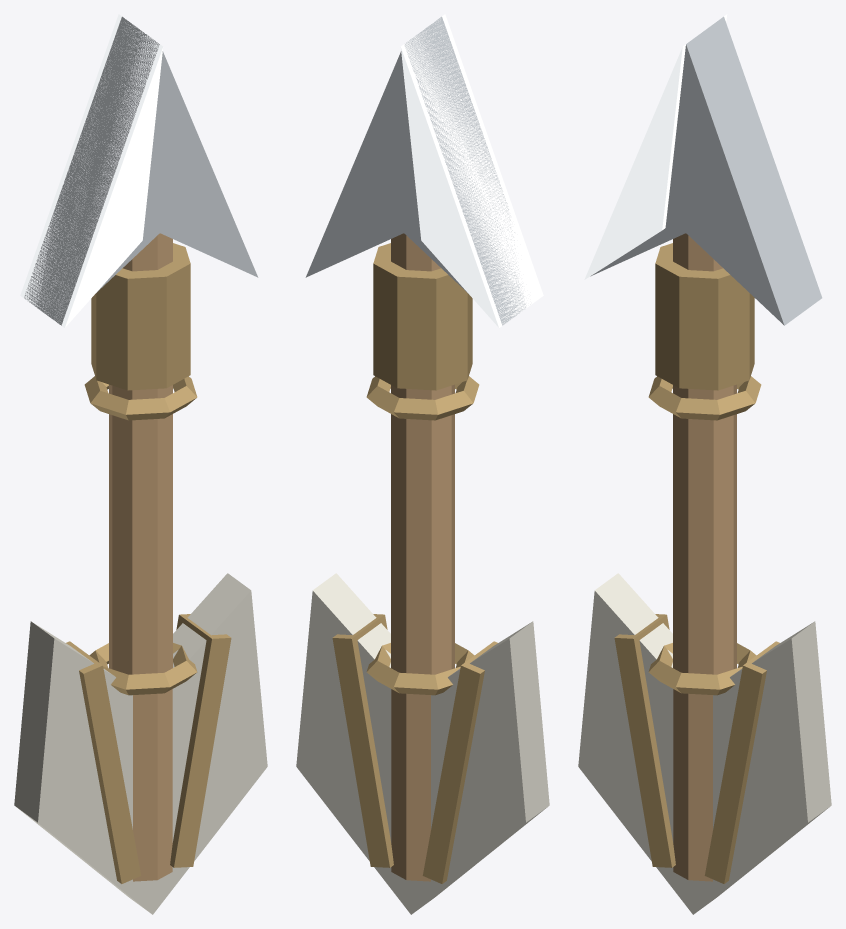
The model's file is hunter_bow_shot.glb.
The picture shows the model from 3 angles, left to right: view 1: azimuth 30°, elevation 25°; view 2: azimuth 150°, elevation 25°; view 3: azimuth 330°, elevation 25°; orthographic projection.
Parts seen in each view (by area): view 1: Shaft, ForgedArrowhead, Fletching_-1, Fletching_1, HeadEdgeLeft, HeadCollar, FletchingRib_1, FletchingRib_-1, Binding_1, Binding_0; view 2: Shaft, ForgedArrowhead, HeadEdgeLeft, Fletching_-1, Fletching_1, HeadCollar, FletchingRib_1, FletchingRib_-1, Binding_1, Binding_0; view 3: ForgedArrowhead, Shaft, Fletching_1, Fletching_-1, HeadCollar, HeadEdgeLeft, FletchingRib_-1, FletchingRib_1, Binding_1, Binding_0.
Boxes of the visible parts, left/top/right/bottom form: Shaft: left=109, top=233, right=172, bottom=881; ForgedArrowhead: left=24, top=16, right=258, bottom=325; Fletching_-1: left=14, top=621, right=152, bottom=914; Fletching_1: left=153, top=573, right=267, bottom=914; HeadEdgeLeft: left=20, top=14, right=163, bottom=327; HeadCollar: left=91, top=243, right=190, bottom=390; FletchingRib_1: left=170, top=614, right=231, bottom=867; FletchingRib_-1: left=66, top=641, right=141, bottom=883; Binding_1: left=84, top=376, right=197, bottom=420; Binding_0: left=89, top=643, right=197, bottom=695; Shaft: left=391, top=233, right=454, bottom=881; ForgedArrowhead: left=305, top=16, right=530, bottom=325; HeadEdgeLeft: left=400, top=14, right=543, bottom=327; Fletching_-1: left=411, top=621, right=549, bottom=914; Fletching_1: left=296, top=573, right=410, bottom=914; HeadCollar: left=373, top=243, right=472, bottom=390; FletchingRib_1: left=332, top=614, right=393, bottom=867; FletchingRib_-1: left=422, top=641, right=497, bottom=883; Binding_1: left=366, top=376, right=479, bottom=420; Binding_0: left=366, top=643, right=474, bottom=695; ForgedArrowhead: left=590, top=16, right=822, bottom=325; Shaft: left=673, top=233, right=736, bottom=881; Fletching_1: left=693, top=621, right=831, bottom=914; Fletching_-1: left=578, top=573, right=692, bottom=914; HeadCollar: left=655, top=243, right=754, bottom=390; HeadEdgeLeft: left=584, top=14, right=727, bottom=279; FletchingRib_-1: left=614, top=614, right=675, bottom=867; FletchingRib_1: left=704, top=641, right=779, bottom=883; Binding_1: left=648, top=376, right=761, bottom=420; Binding_0: left=648, top=643, right=756, bottom=695.
Bounding box in the file's own units: 0.28 × 1.02 × 0.1234.
